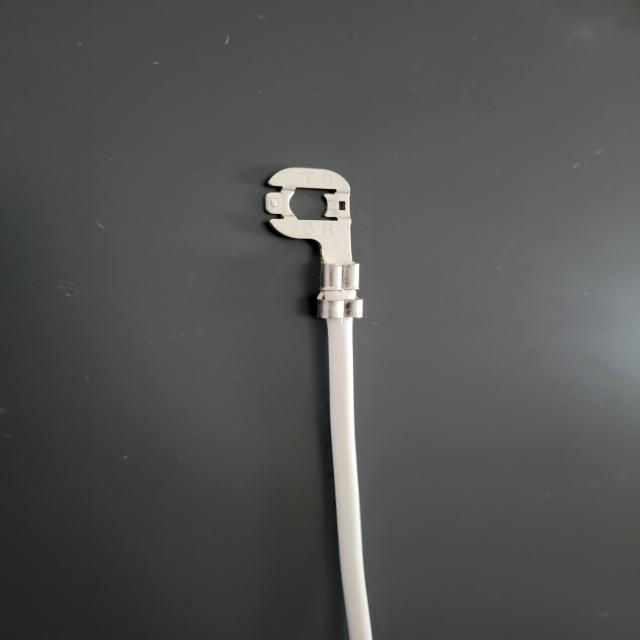defect: (284, 258, 442, 336)
